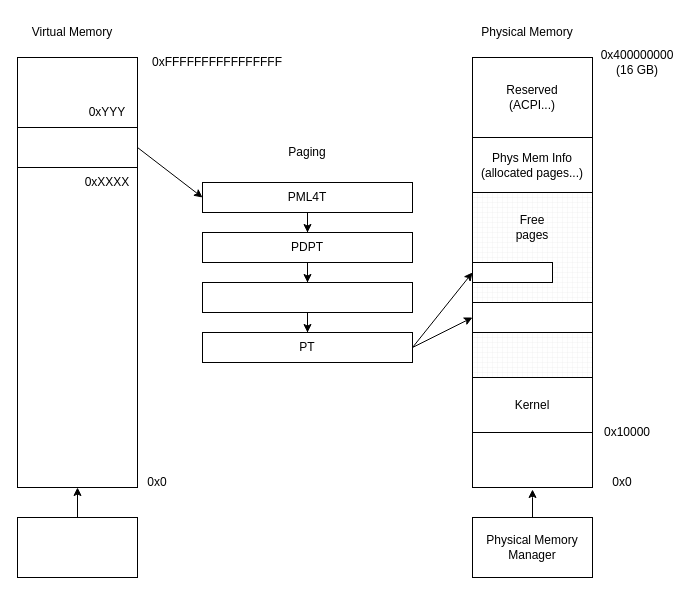
This 700x595 diagram has some shape labels left out. Here are the shapes that lost their labels. From the top down, the centre of each, then its label:
point (307, 297): PDT
point (532, 460): Reserved (boot)
point (77, 547): Virtual Memory Manager
